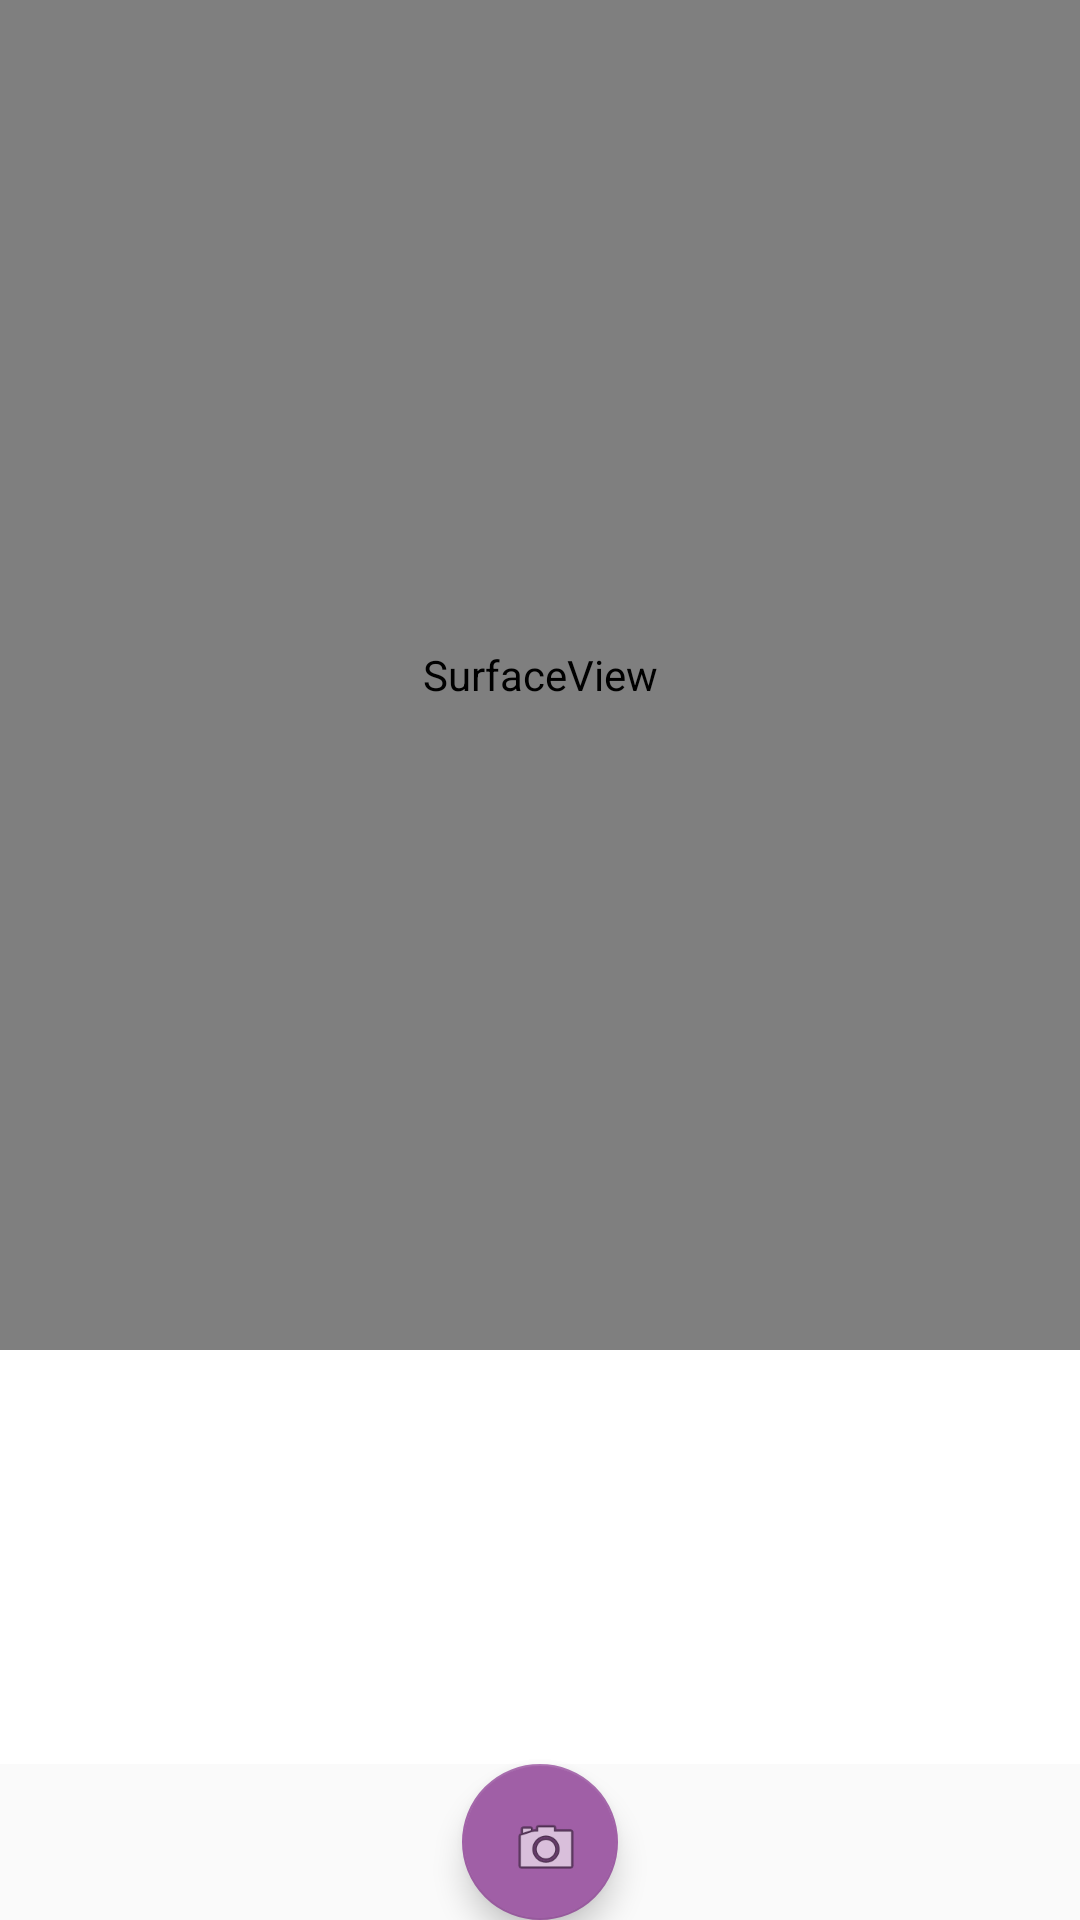

Named icons in this screenshot (1080×1920) and their bounding boxes, bbox=[x1, y1, x2, y2]:
camera: bbox=[462, 1764, 618, 1920]
